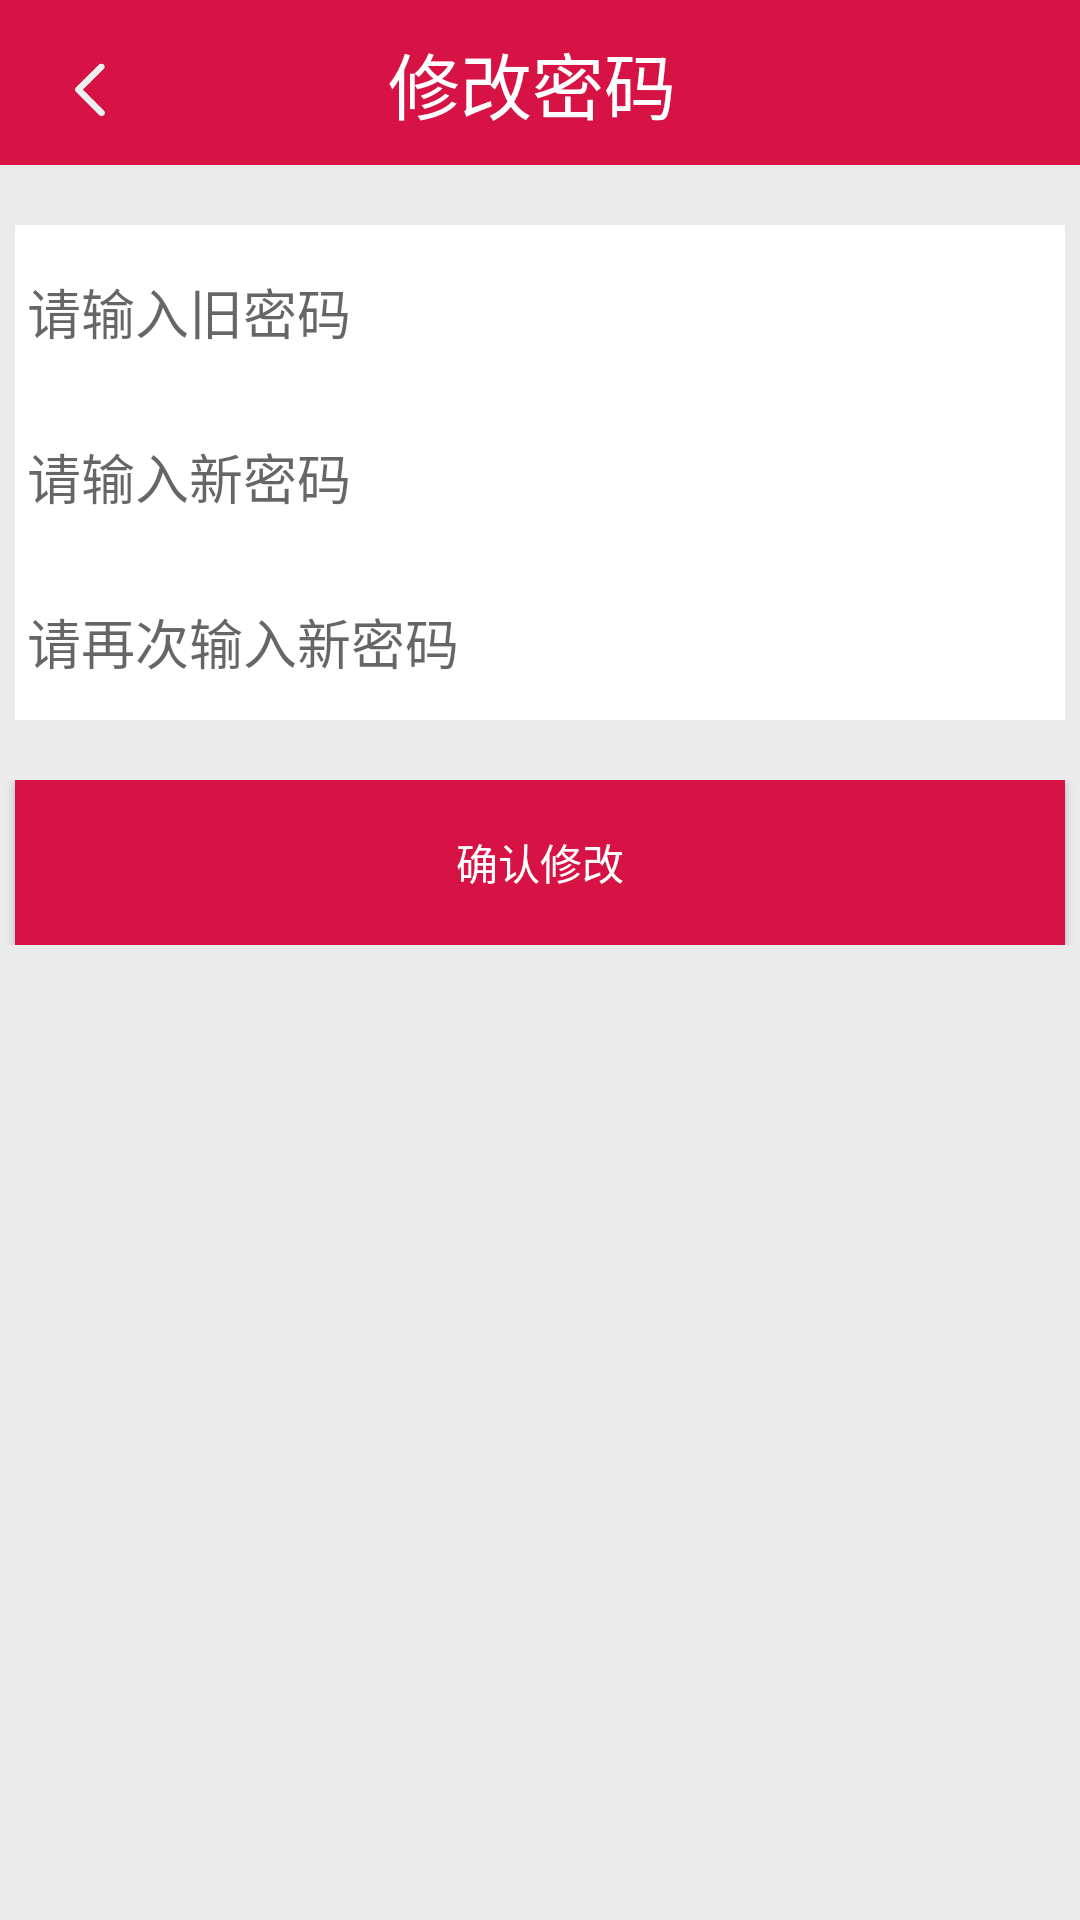

Named icons in this screenshot (1080px x 1920px) and their centers, (x=x, y=y):
back: (x=90, y=89)
